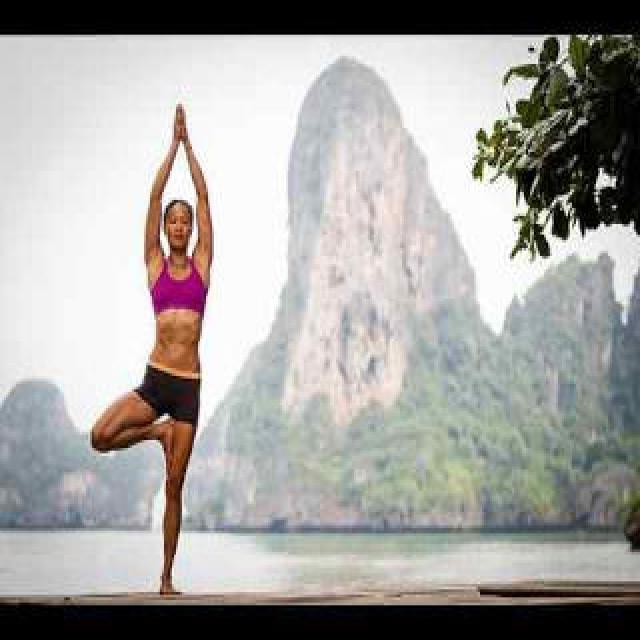yoga-pose tree: (84, 103, 218, 590)
